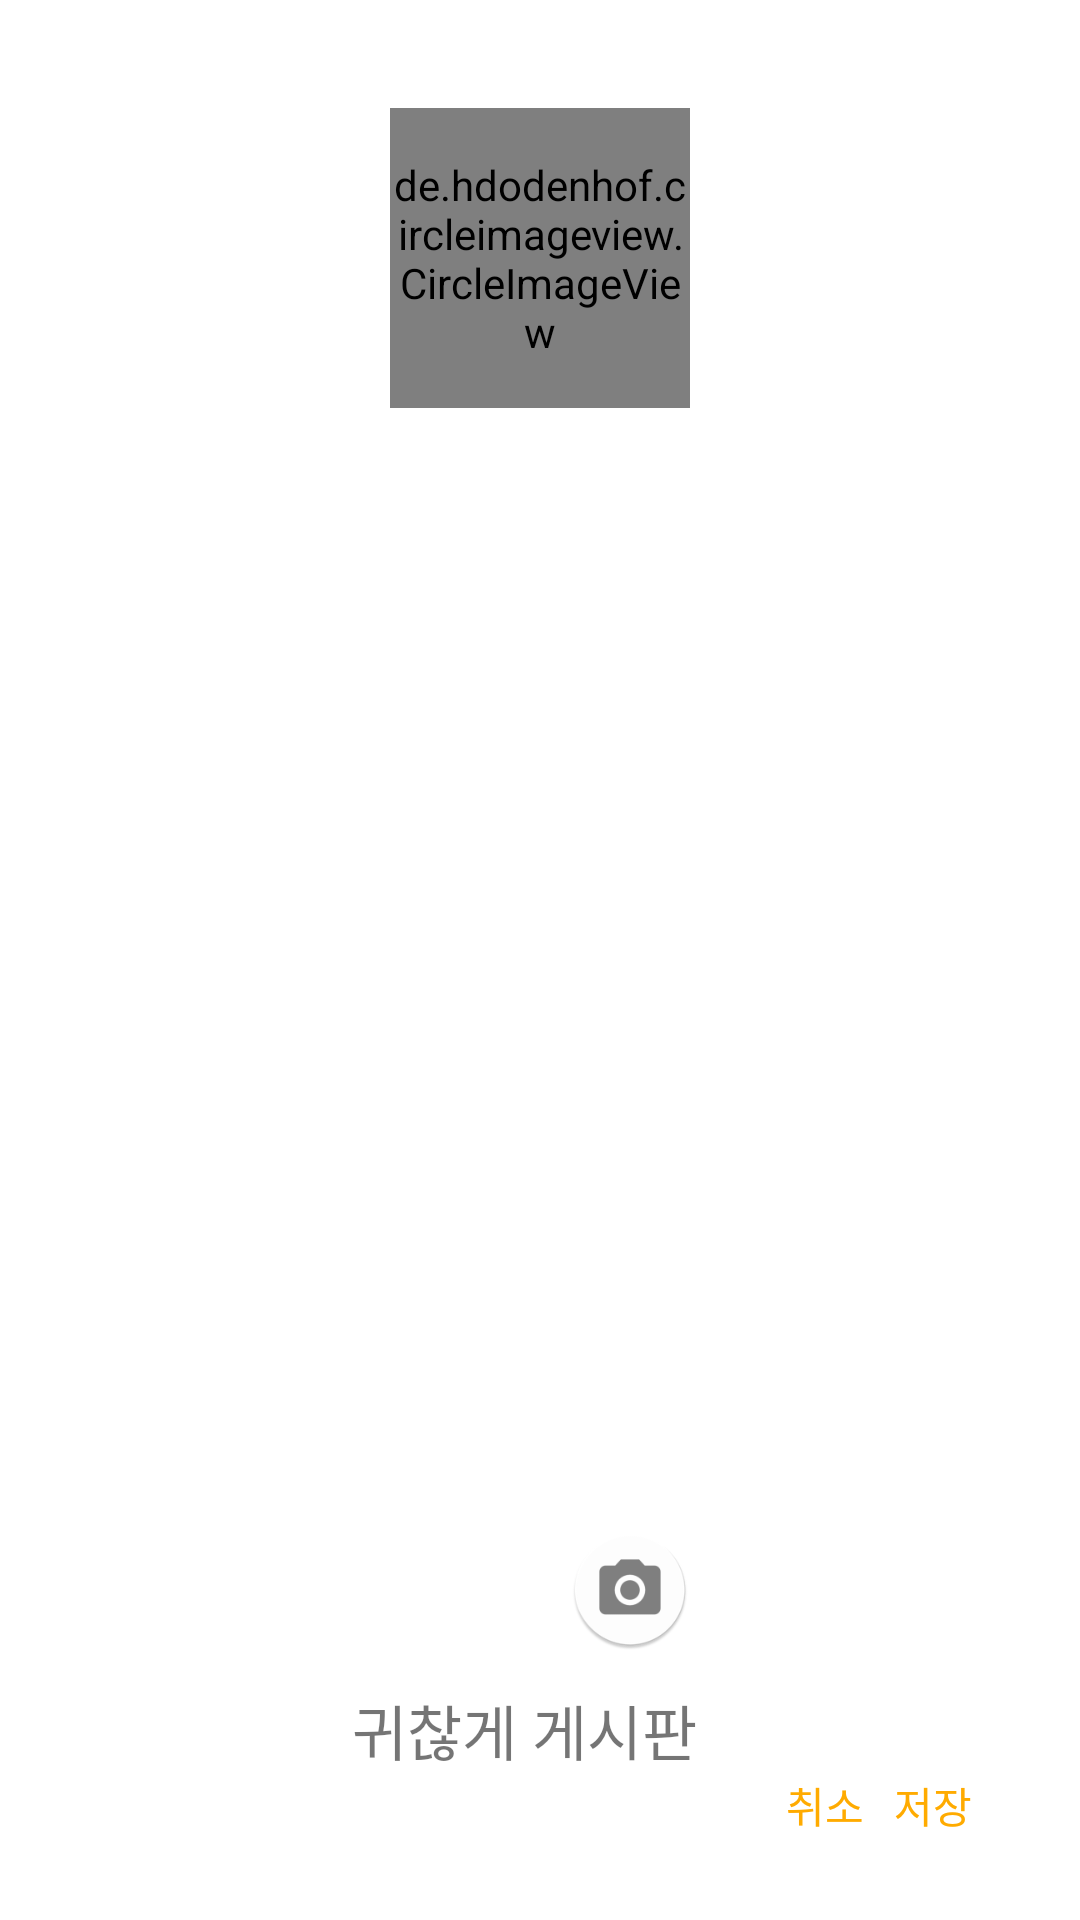

Locate icon controls on the screen. Image size 1080x1920, boxes as (x1,y1,x2,y2).
custom camera: (599,1559,642,1602)
